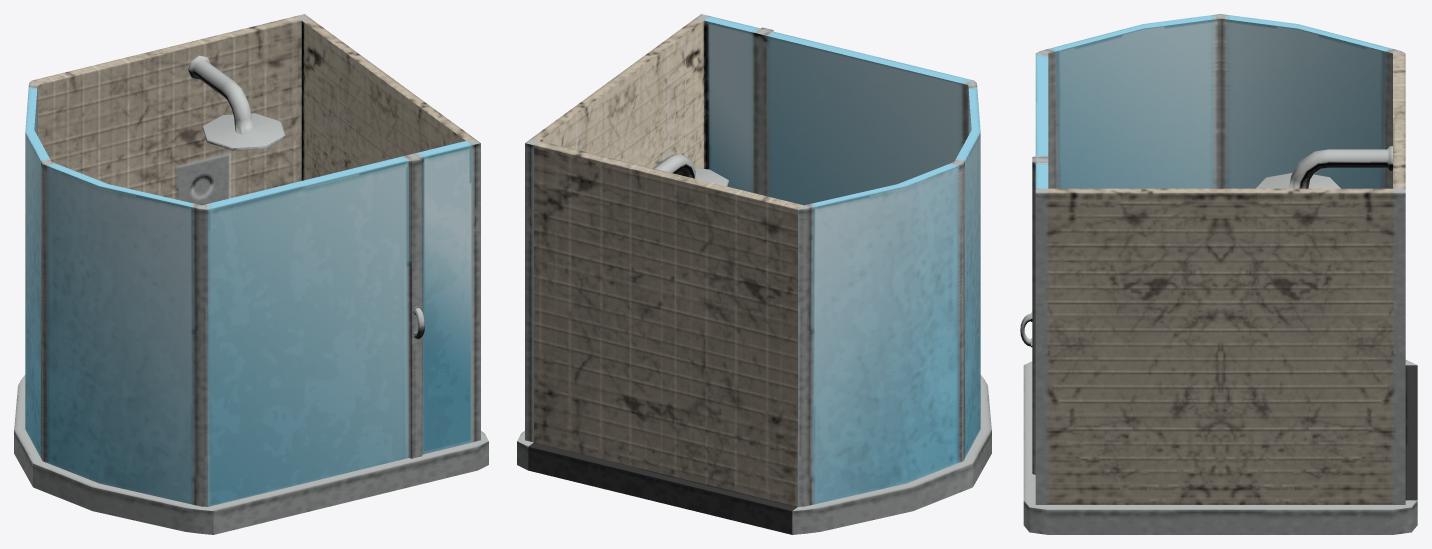
File: Shower.fbx
3 renders of one model, left to right at view 1: azimuth 30°, elevation 25°; view 2: azimuth 150°, elevation 25°; view 3: azimuth 270°, elevation 25°, orthographic. The views are drawn at different scales.
Parts seen in each view (by area): view 1: polySurface9; view 2: polySurface9; view 3: polySurface9.
Part boxes in pixels (x1,y1,x2,y2): polySurface9: (14,14,488,534); polySurface9: (517,14,991,534); polySurface9: (1020,14,1417,534).
Size of the model in its own units: 262 by 217 by 232.
